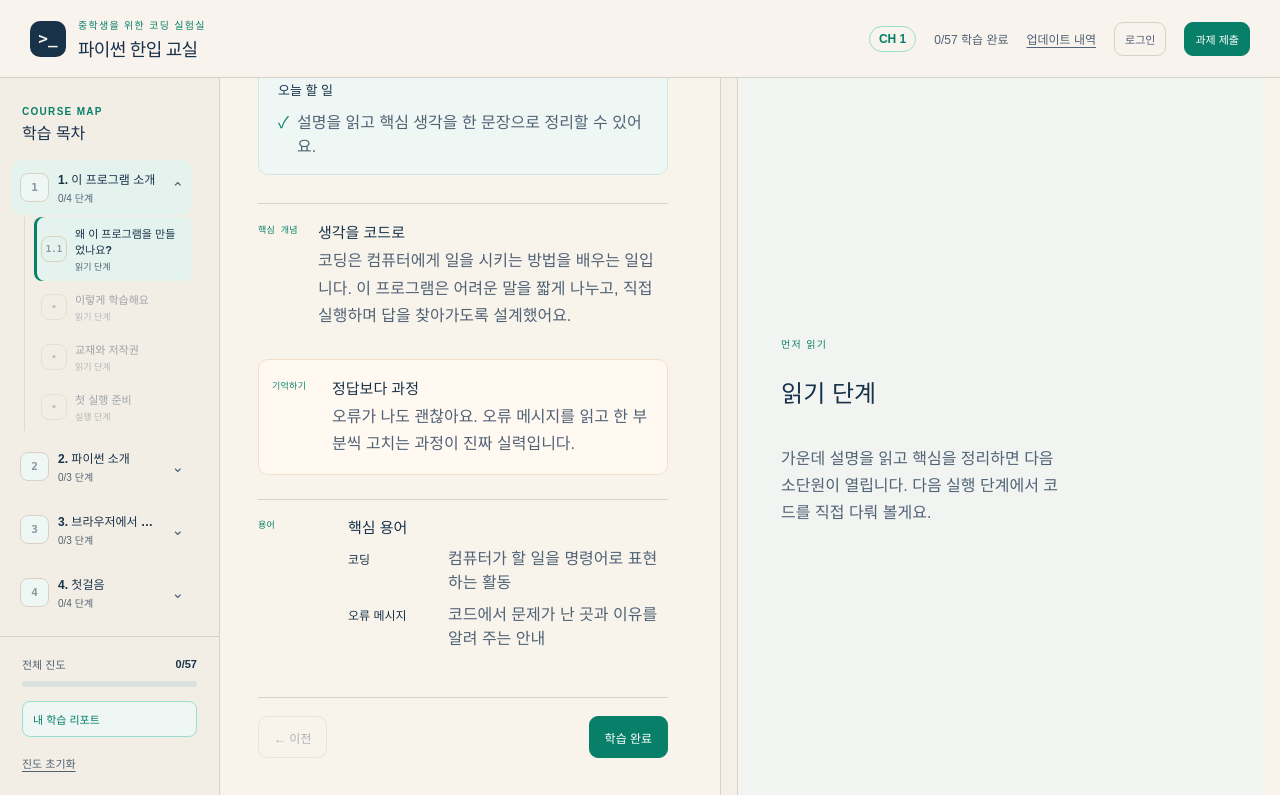
Test case: App profile and submission boundary › migrates v3 guest progress, then completes and advances the first lesson
This screenshot has width=1280, height=795.
(page scrolled)
Click the button "학습 완료" at (628, 737), box [589,716,668,758]
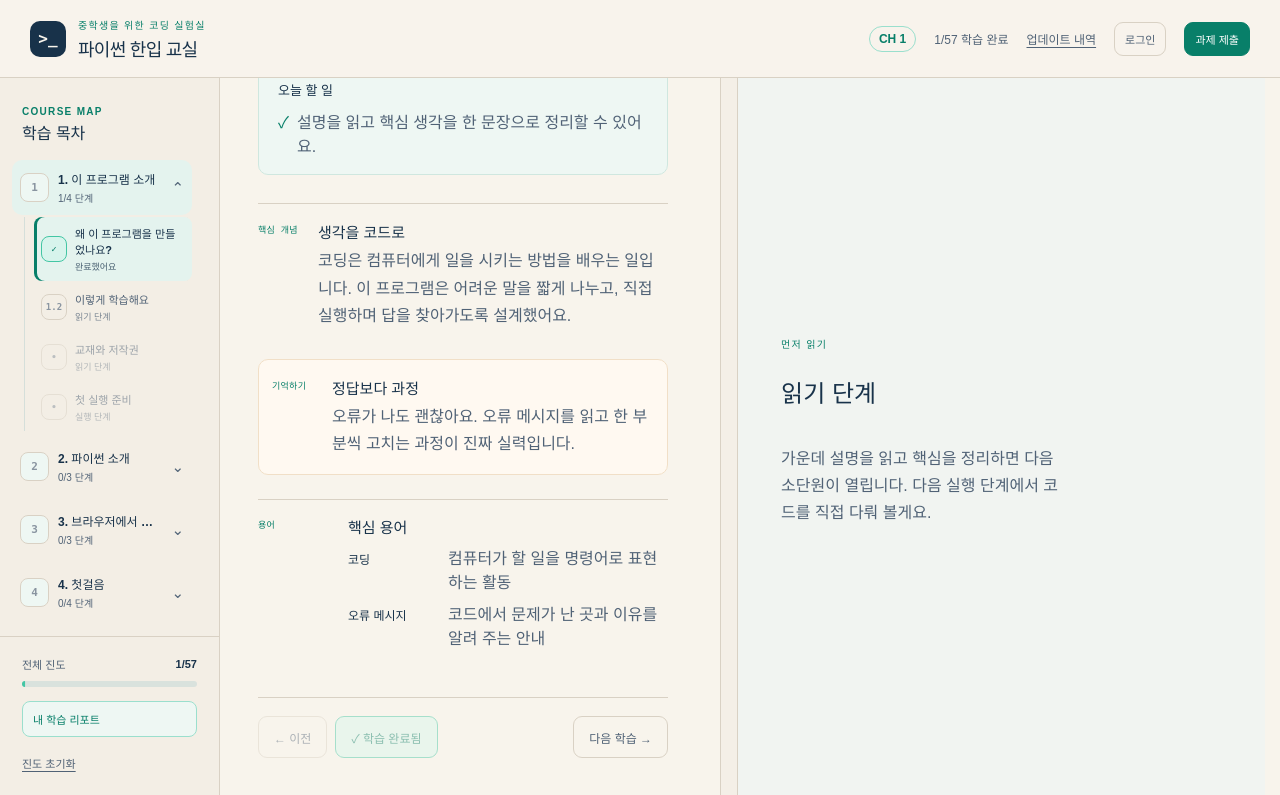
Expected: the button "✓ 학습 완료됨" is shown, [335,716,438,758]
Click the button "다음 학습 →" at (621, 737), box [573,716,668,758]
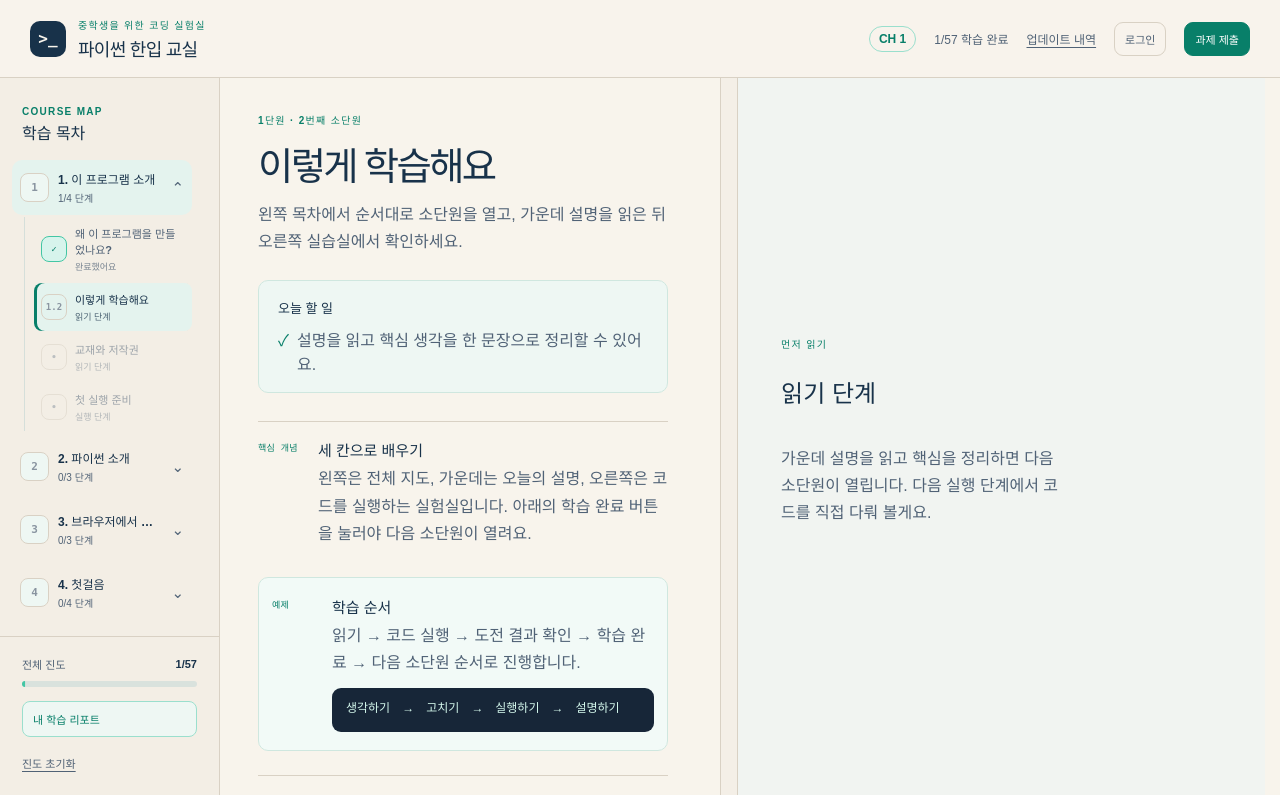
Expected: the heading "이렇게 학습해요" is shown, [258,145,494,188]
